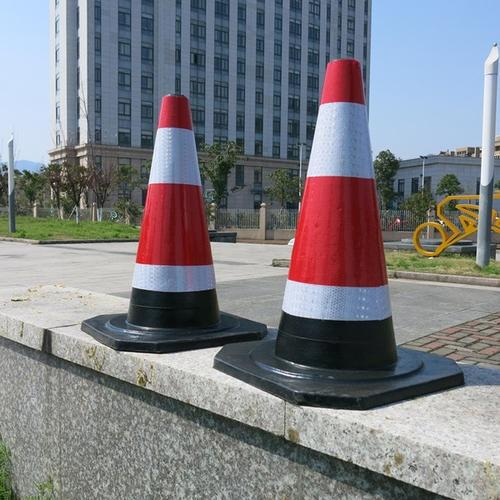cone_barrel: (269, 58, 411, 388), (113, 97, 230, 337)
